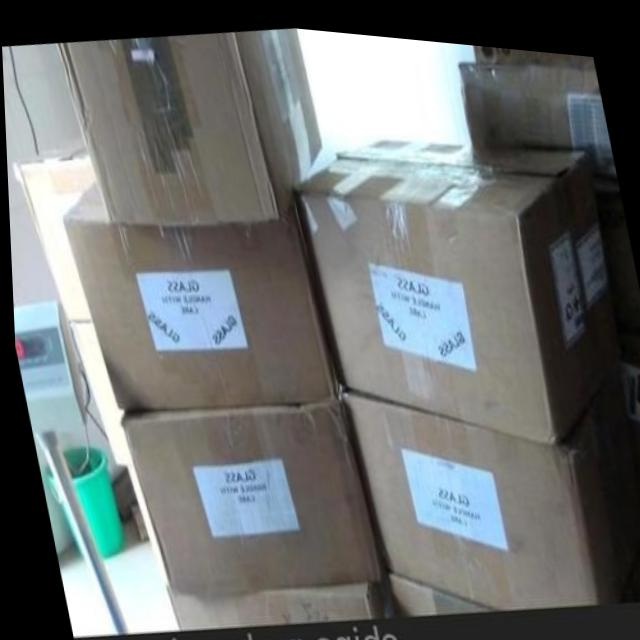box: (295, 132, 619, 432), (339, 360, 640, 602), (61, 177, 339, 406), (55, 23, 322, 221), (117, 392, 379, 592), (459, 36, 640, 321), (13, 131, 93, 323), (162, 575, 381, 626), (66, 320, 129, 471), (373, 563, 492, 610), (614, 314, 640, 474)
